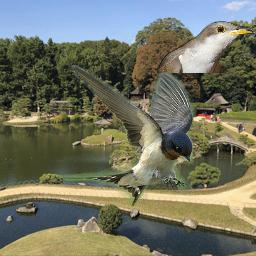Cuckoo: (157, 21, 255, 73)
Swallow: (59, 63, 194, 206)
